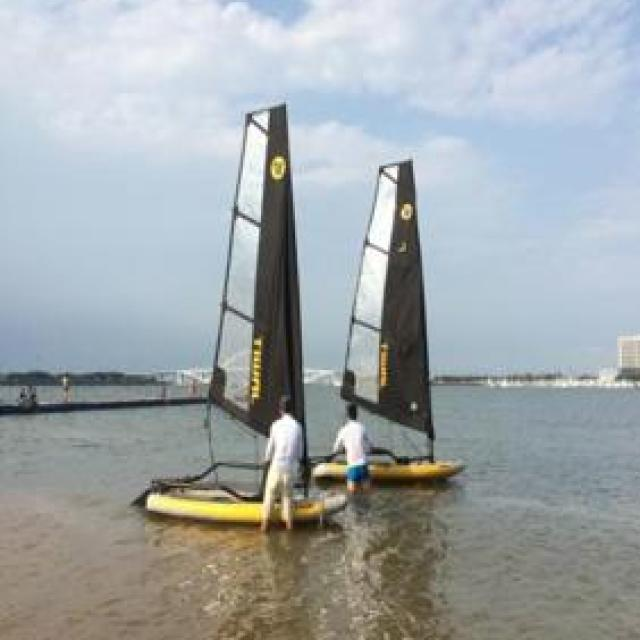sailboat: (140, 94, 344, 520), (318, 152, 482, 483)
